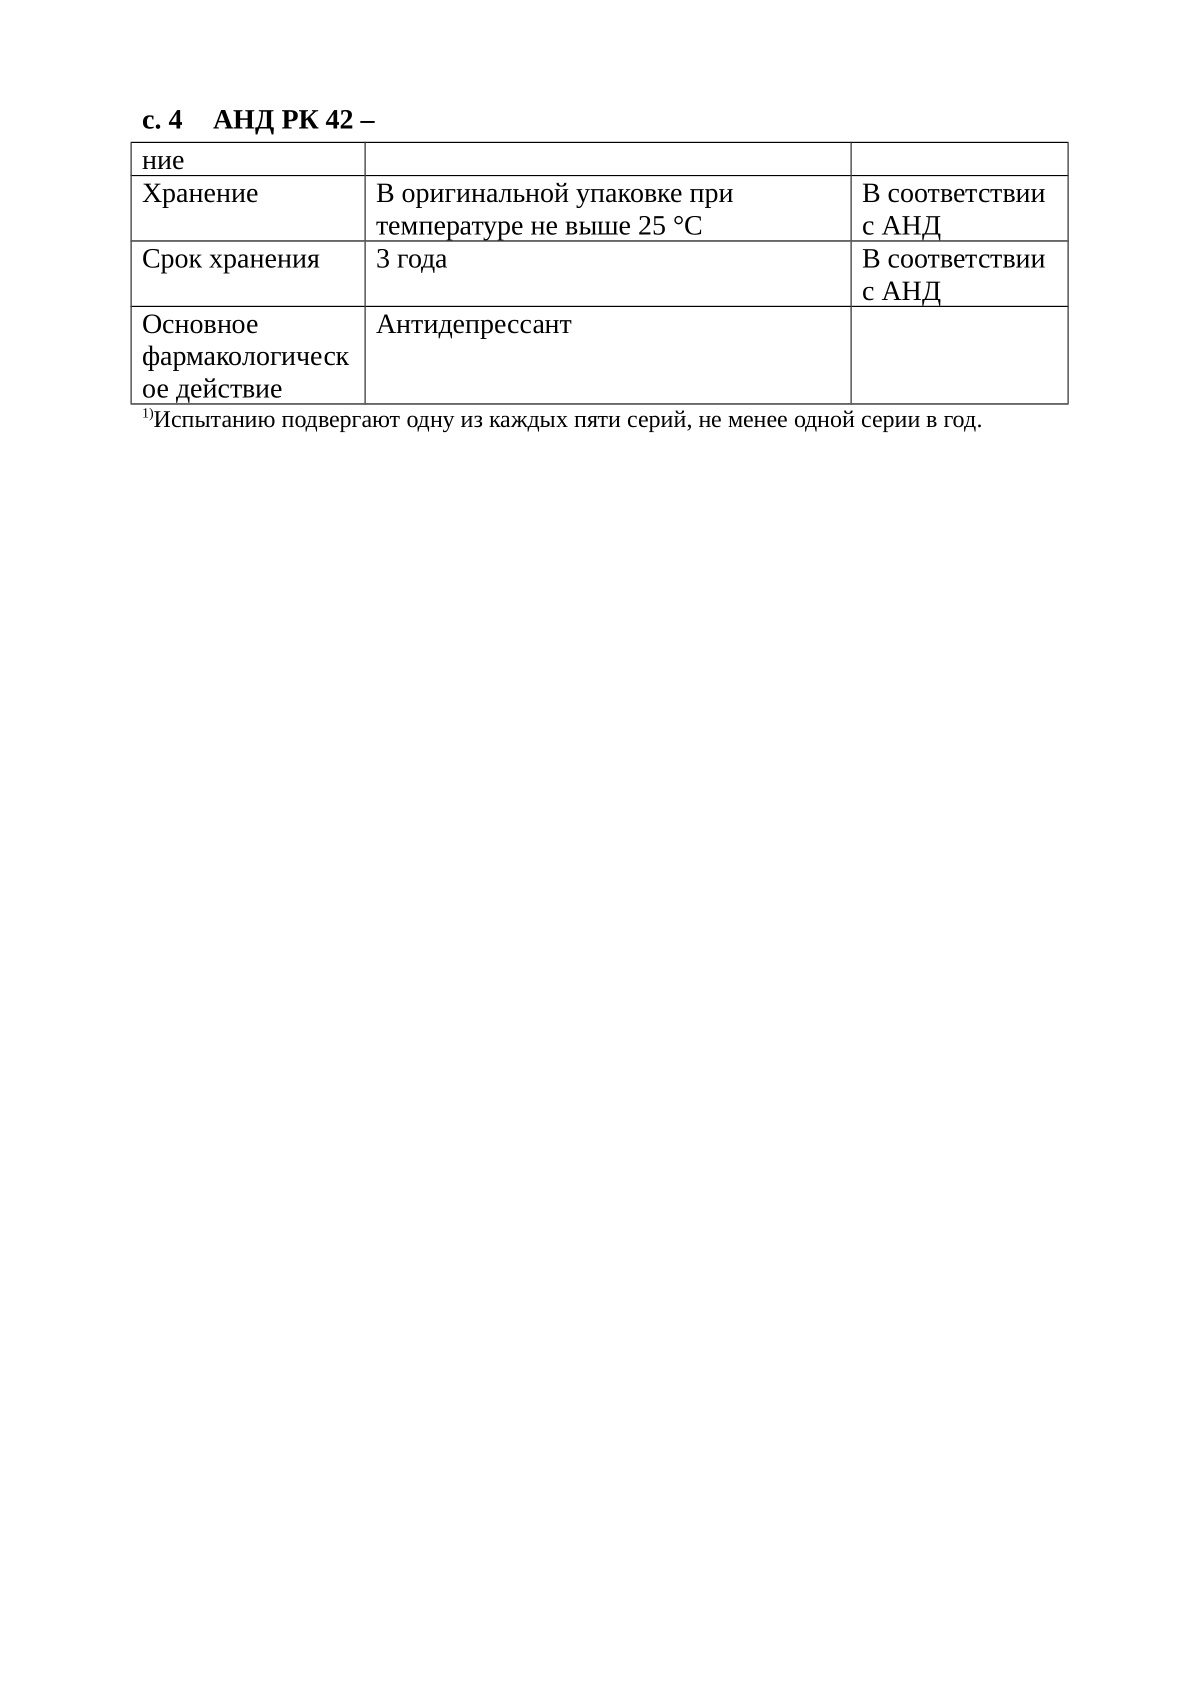merged_cells: (129, 142, 1072, 407)
